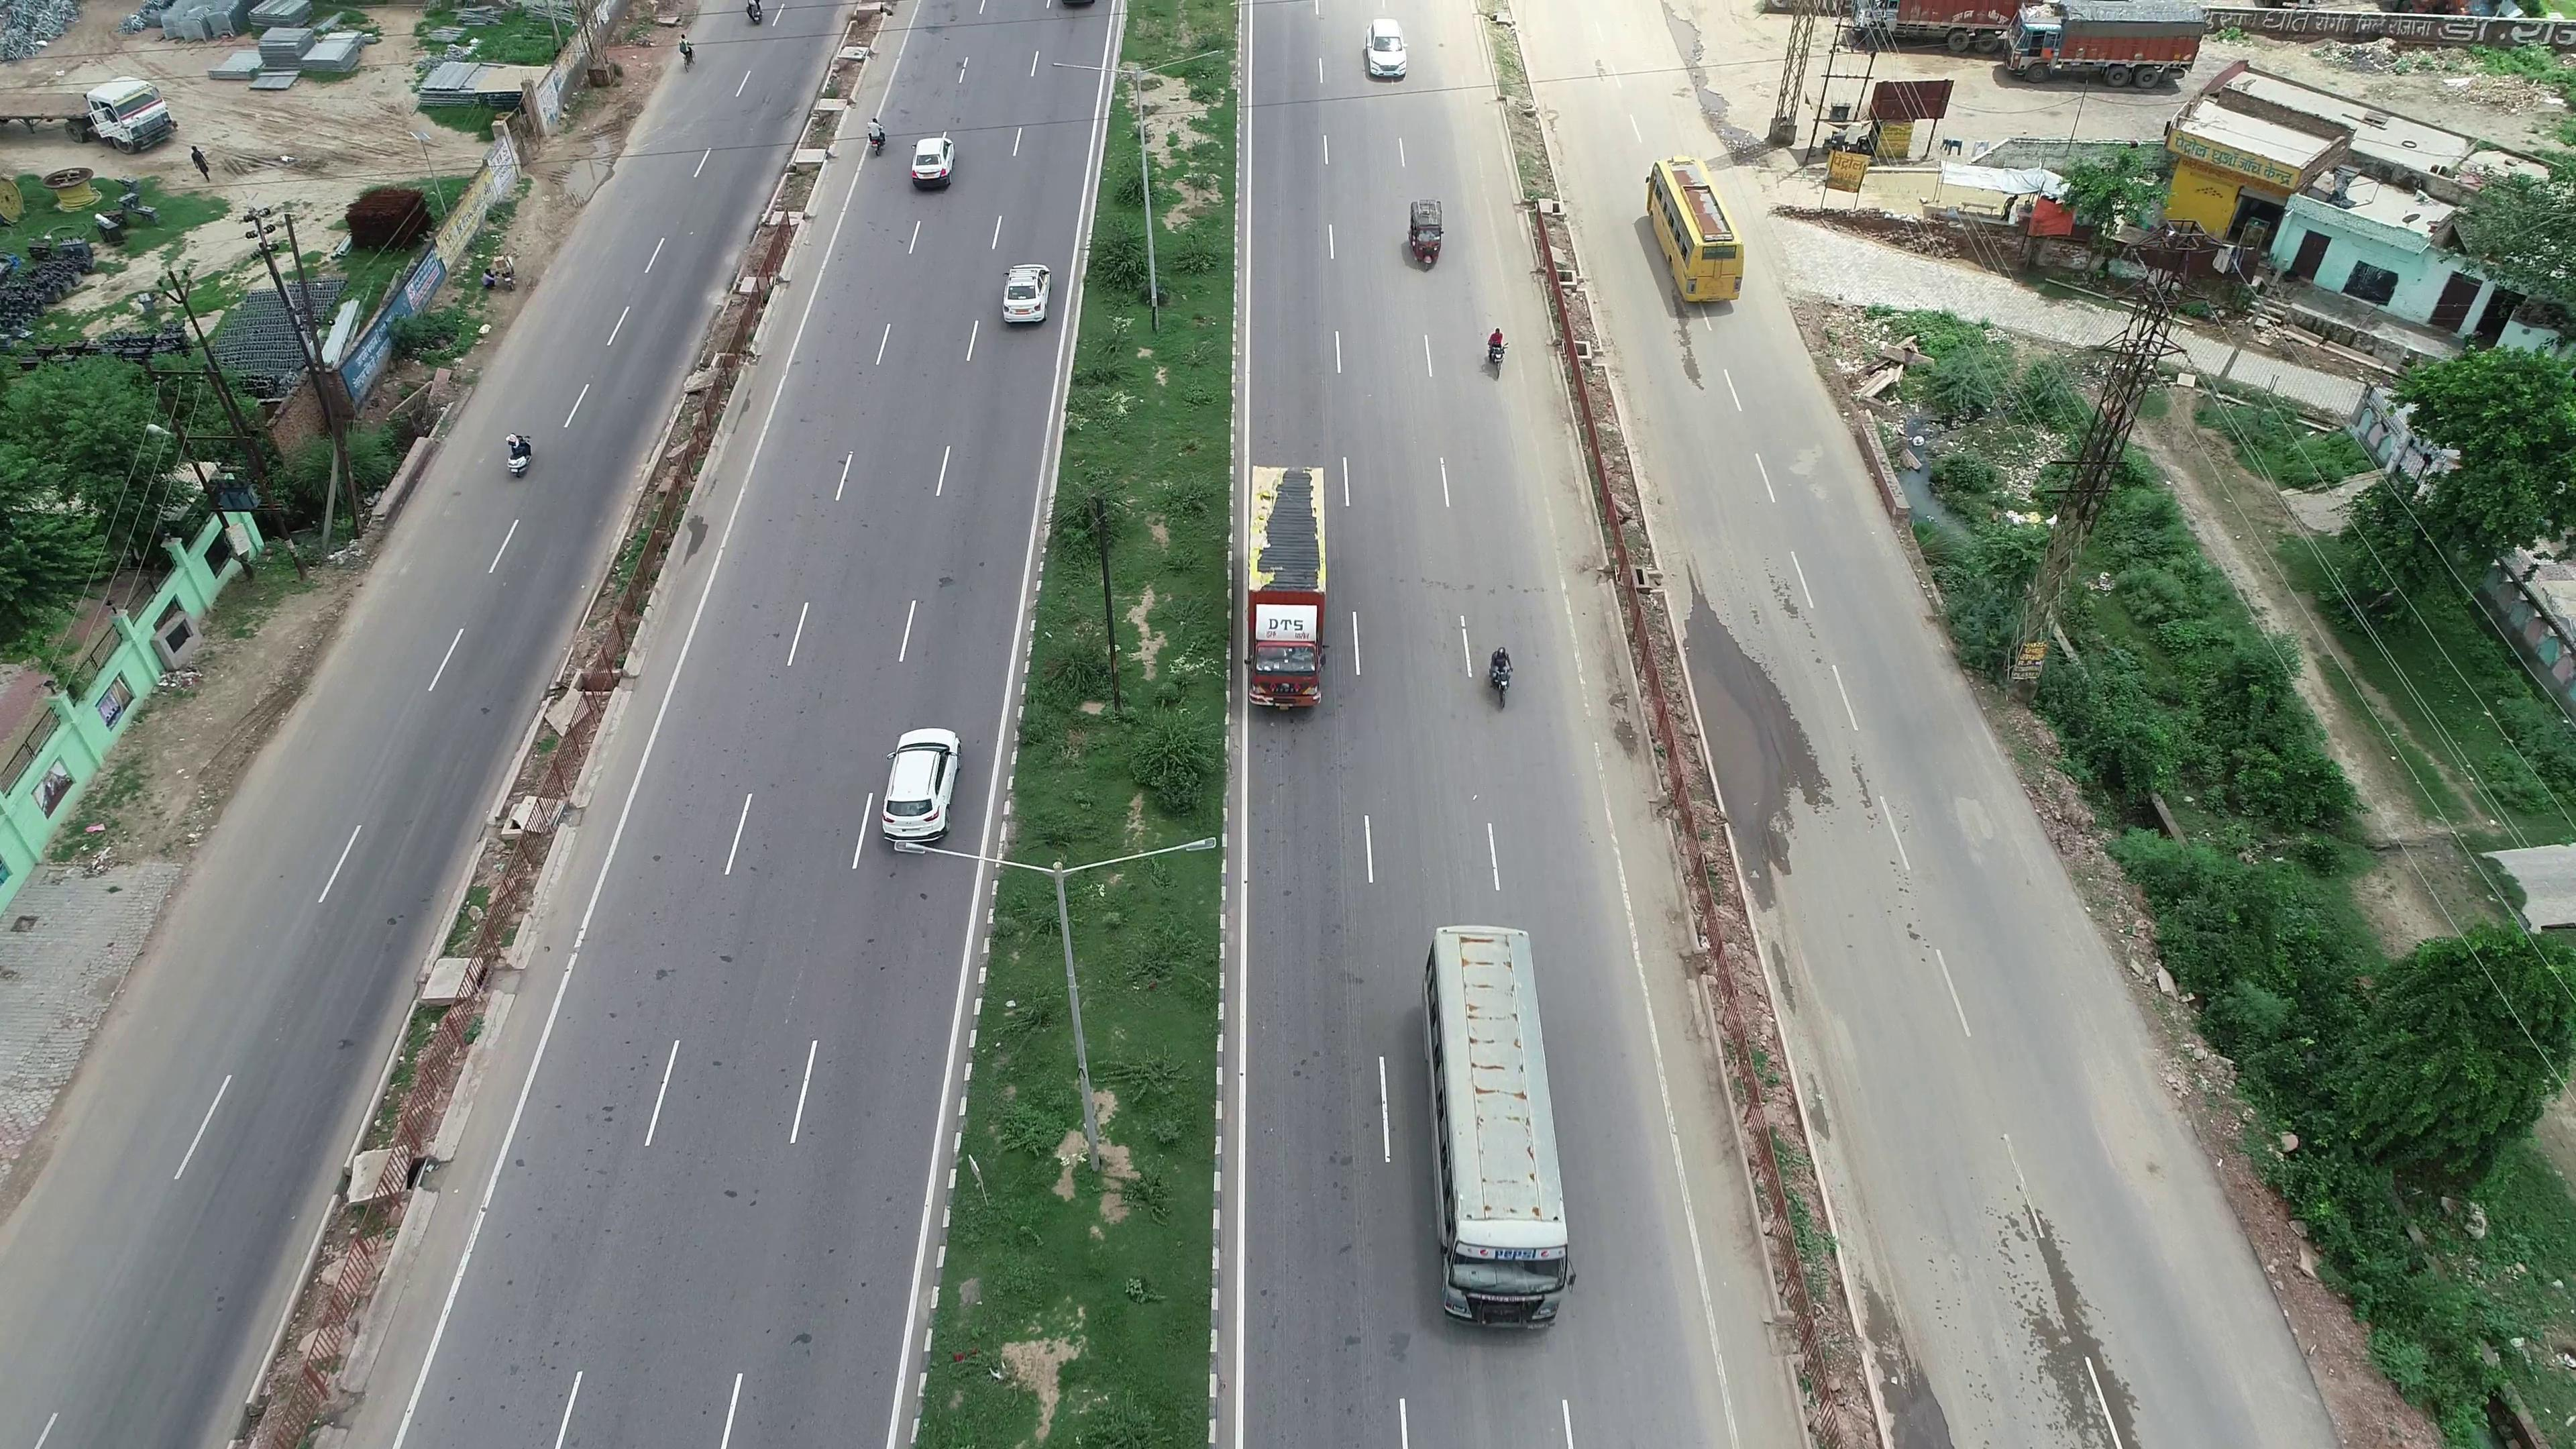Waterlogging: (1706, 658, 1787, 849)
